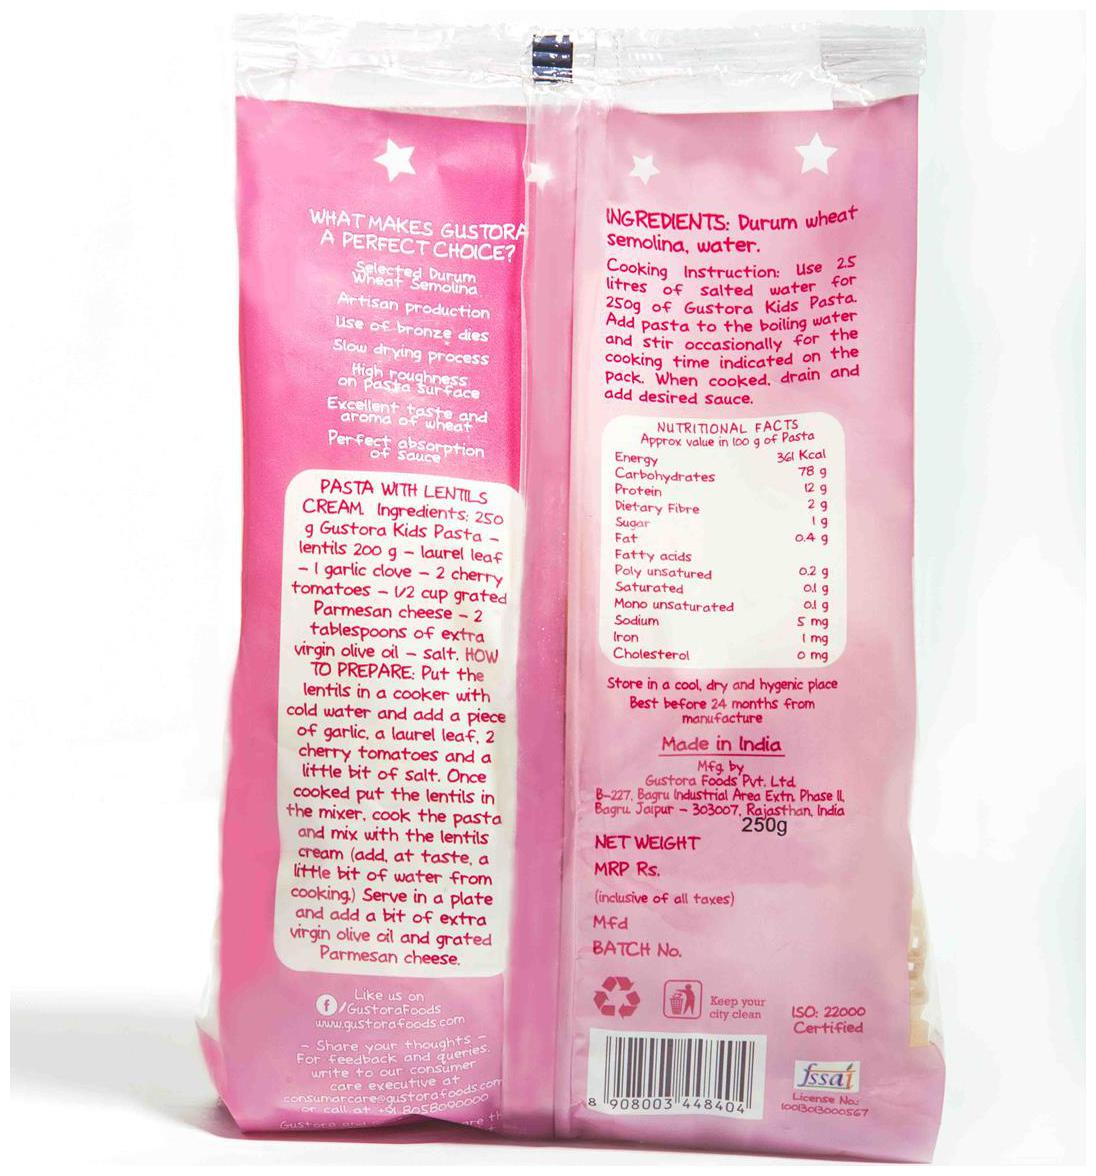fssai: (798, 1063, 856, 1091)
